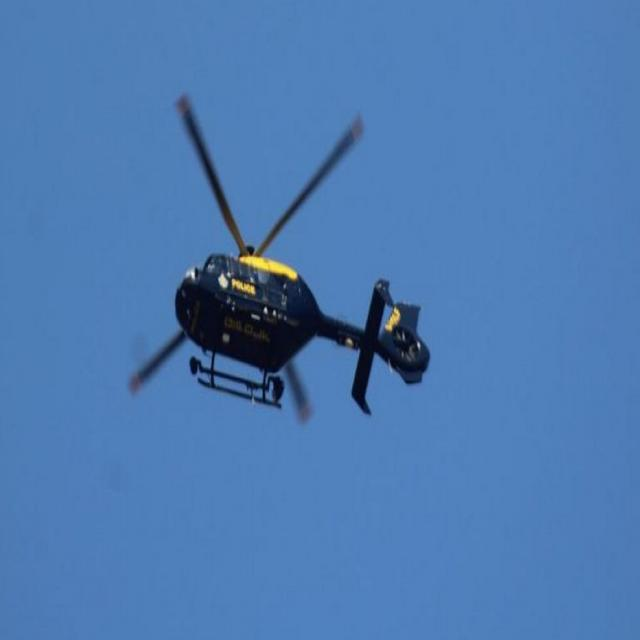helicopter: (125, 94, 435, 421)
